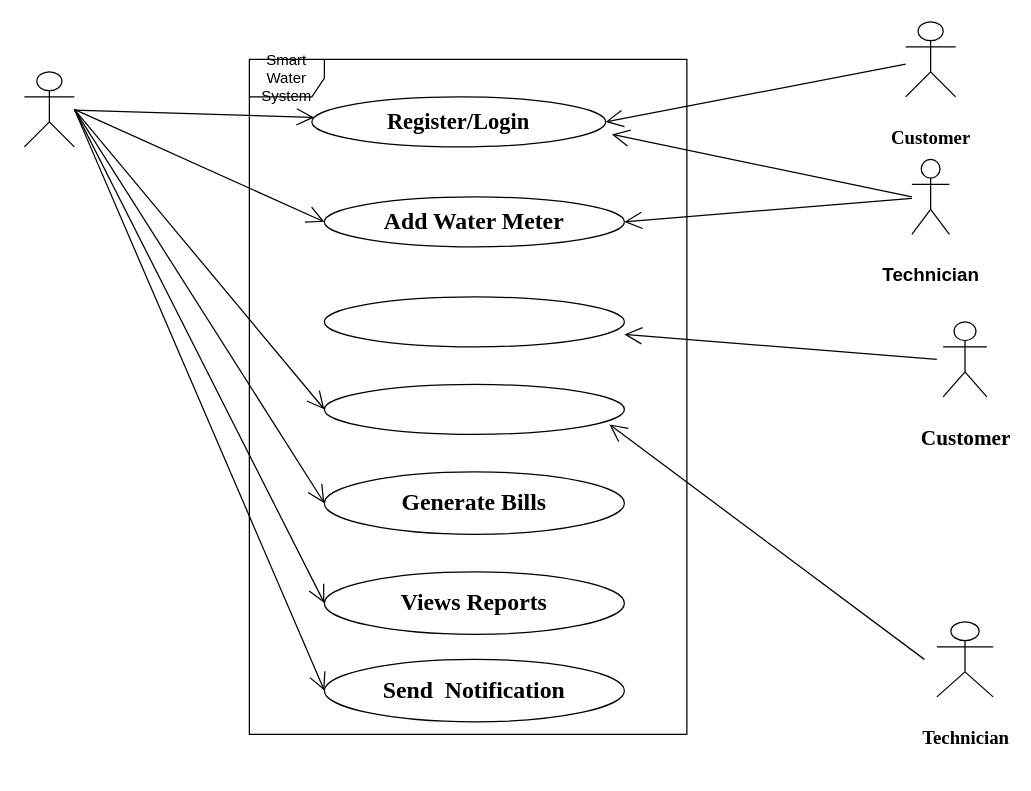
Some shapes in this 1031 by 791 pixel diagram are drawn without their labels. Here are the shapes that lost their labels. From the top down, the centre of each, then its label:
At point (48, 109): "Admin".
At point (473, 321): "Monitor Water Usage".
At point (473, 408): "Detect Leak".
